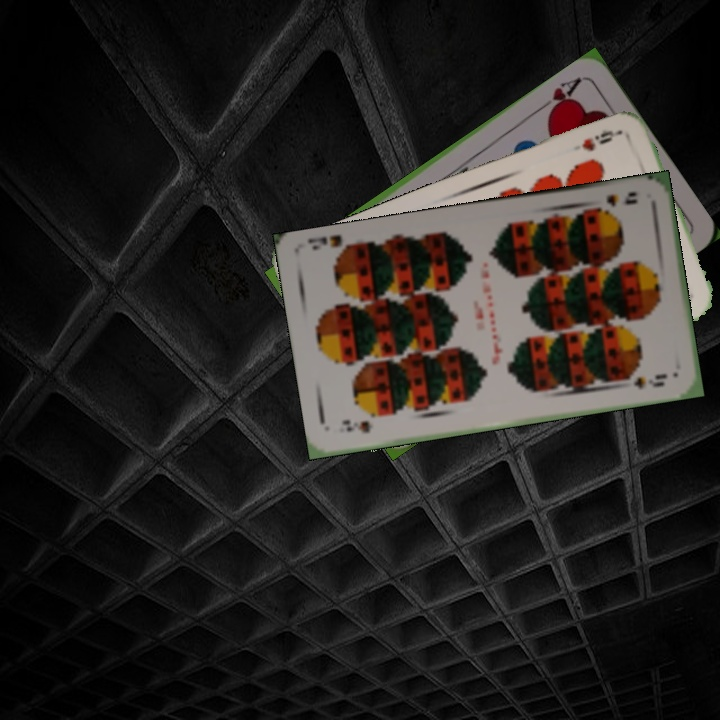H9: (577, 126, 622, 154)
HA: (534, 73, 585, 121)
S9: (588, 188, 640, 216), (339, 417, 374, 435)
